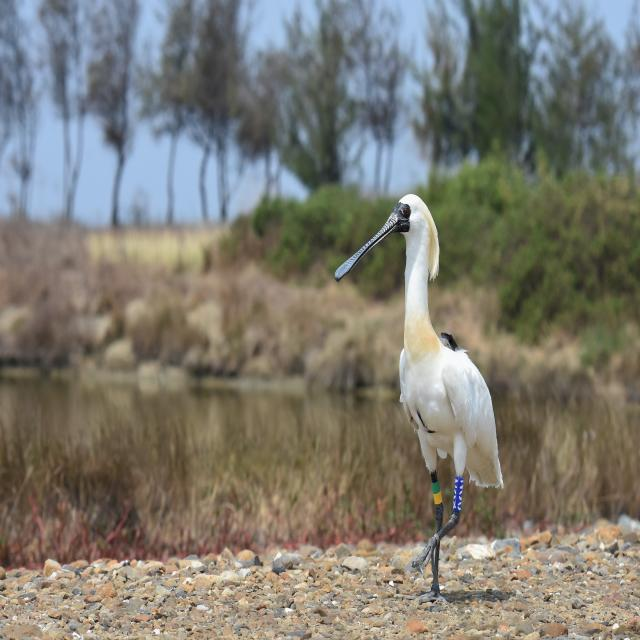Black-faced spoonbill: (335, 195, 503, 602)
